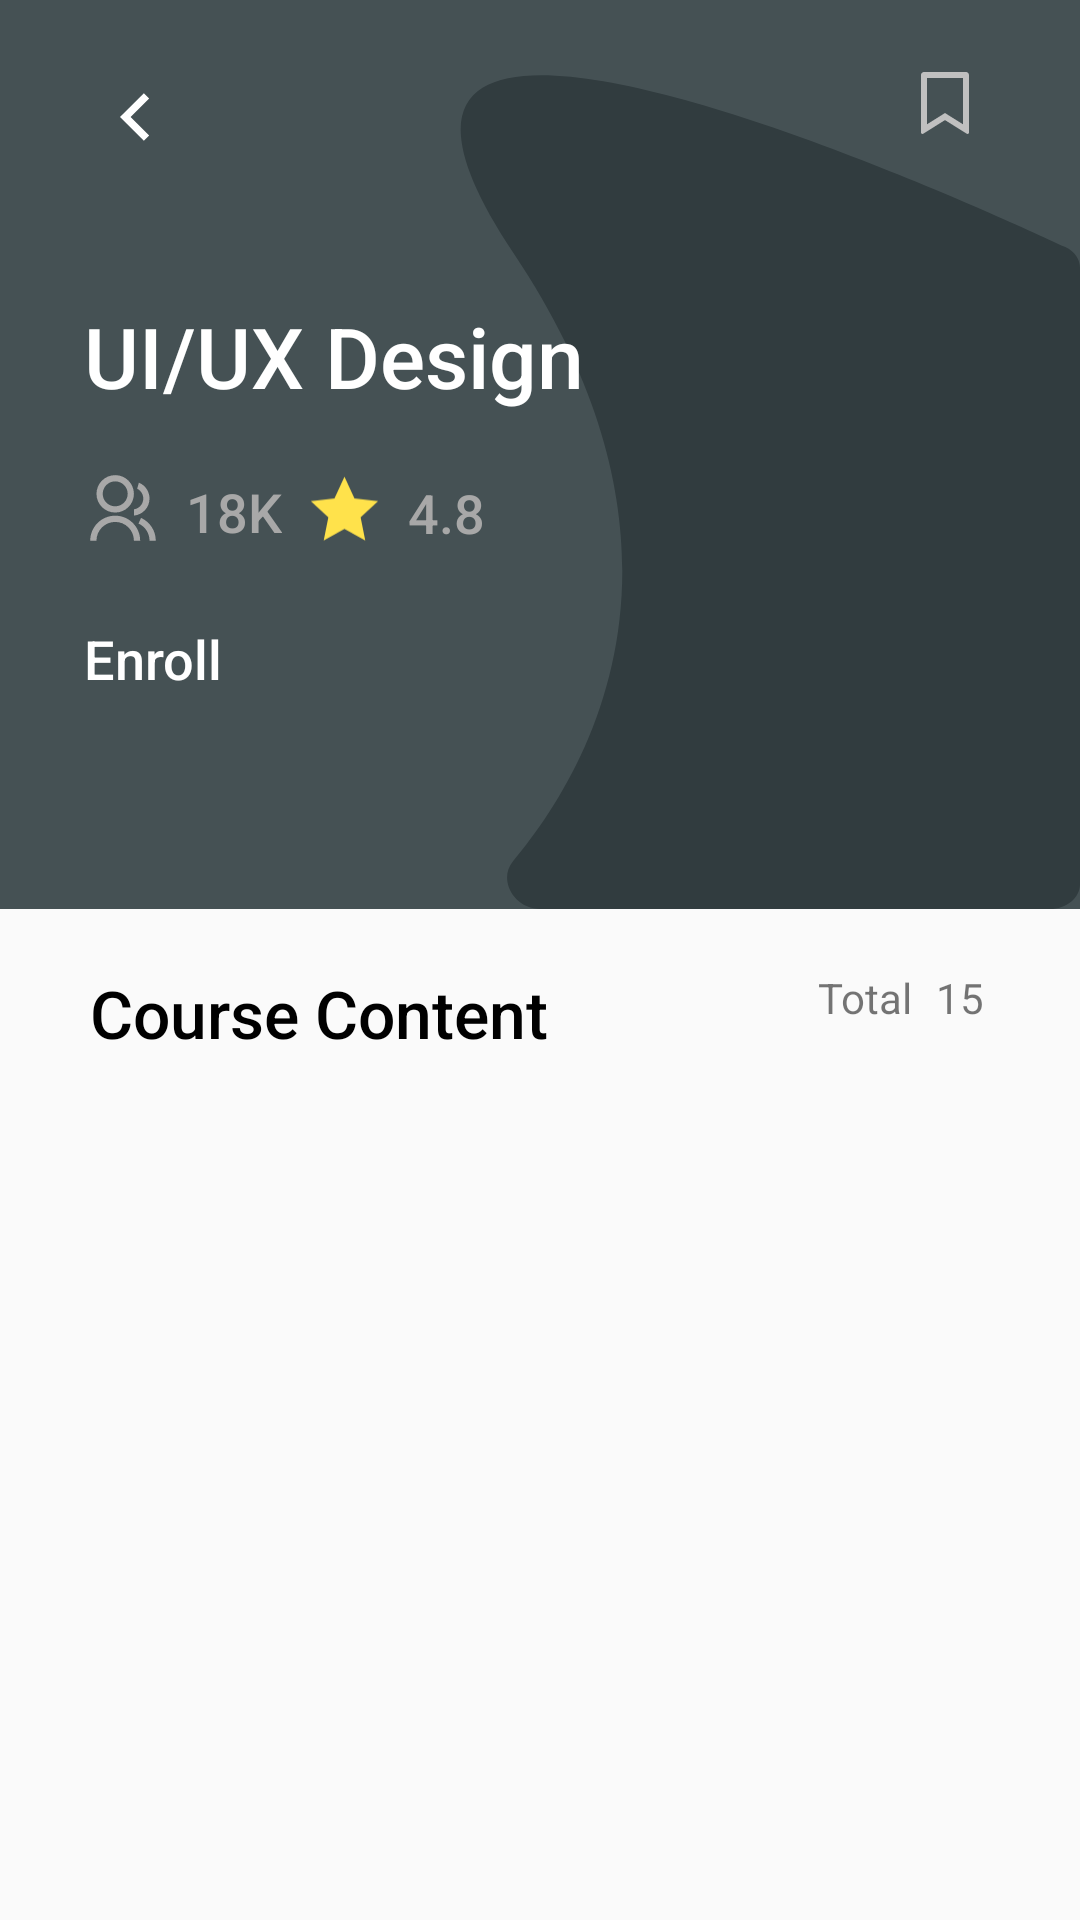

Named icons in this screenshot (1080x1920) and their centers, [x,y]:
backaw: [134,117]
bookmark: [945,103]
grouppeople: [123,508]
star: [344,509]
